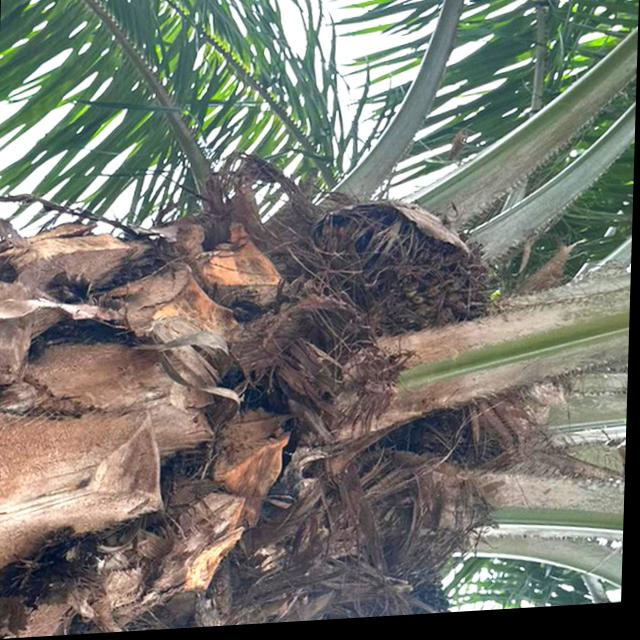almost: (317, 198, 492, 343)
